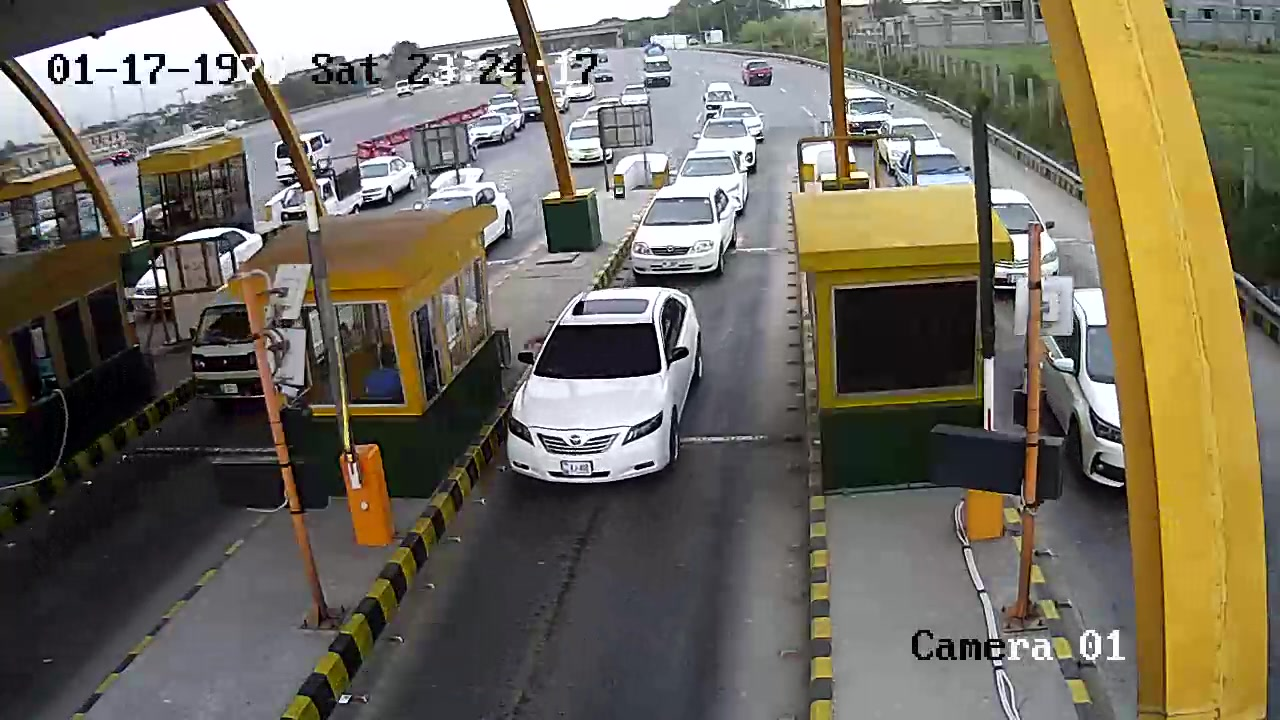F1: (499, 287, 721, 496)
